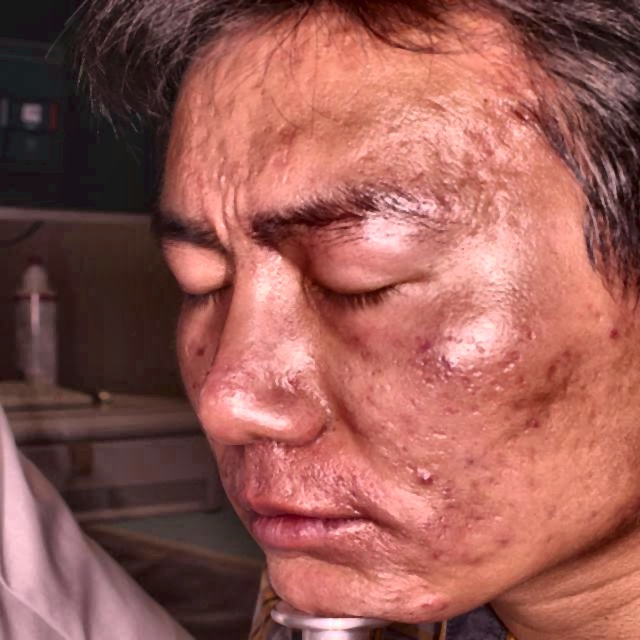comedone: (408, 589, 451, 626), (413, 468, 441, 488)
